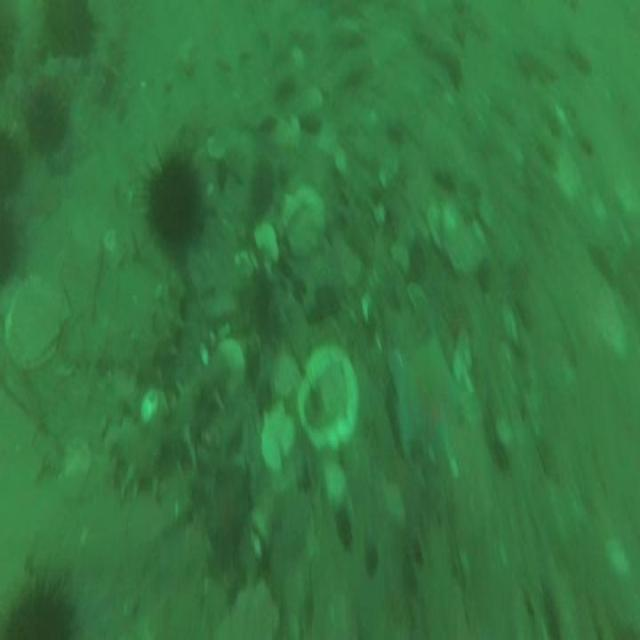echinus: (148, 152, 202, 248), (2, 583, 68, 640), (45, 1, 95, 57), (29, 92, 65, 152)
holothurian: (118, 384, 208, 496), (66, 321, 169, 382)
scallop: (299, 341, 360, 444), (7, 277, 61, 368), (262, 410, 296, 472), (211, 335, 247, 392), (428, 204, 465, 251), (323, 460, 348, 506), (254, 225, 281, 262), (138, 390, 162, 418)
starfish: (388, 335, 471, 454), (209, 495, 245, 569)
